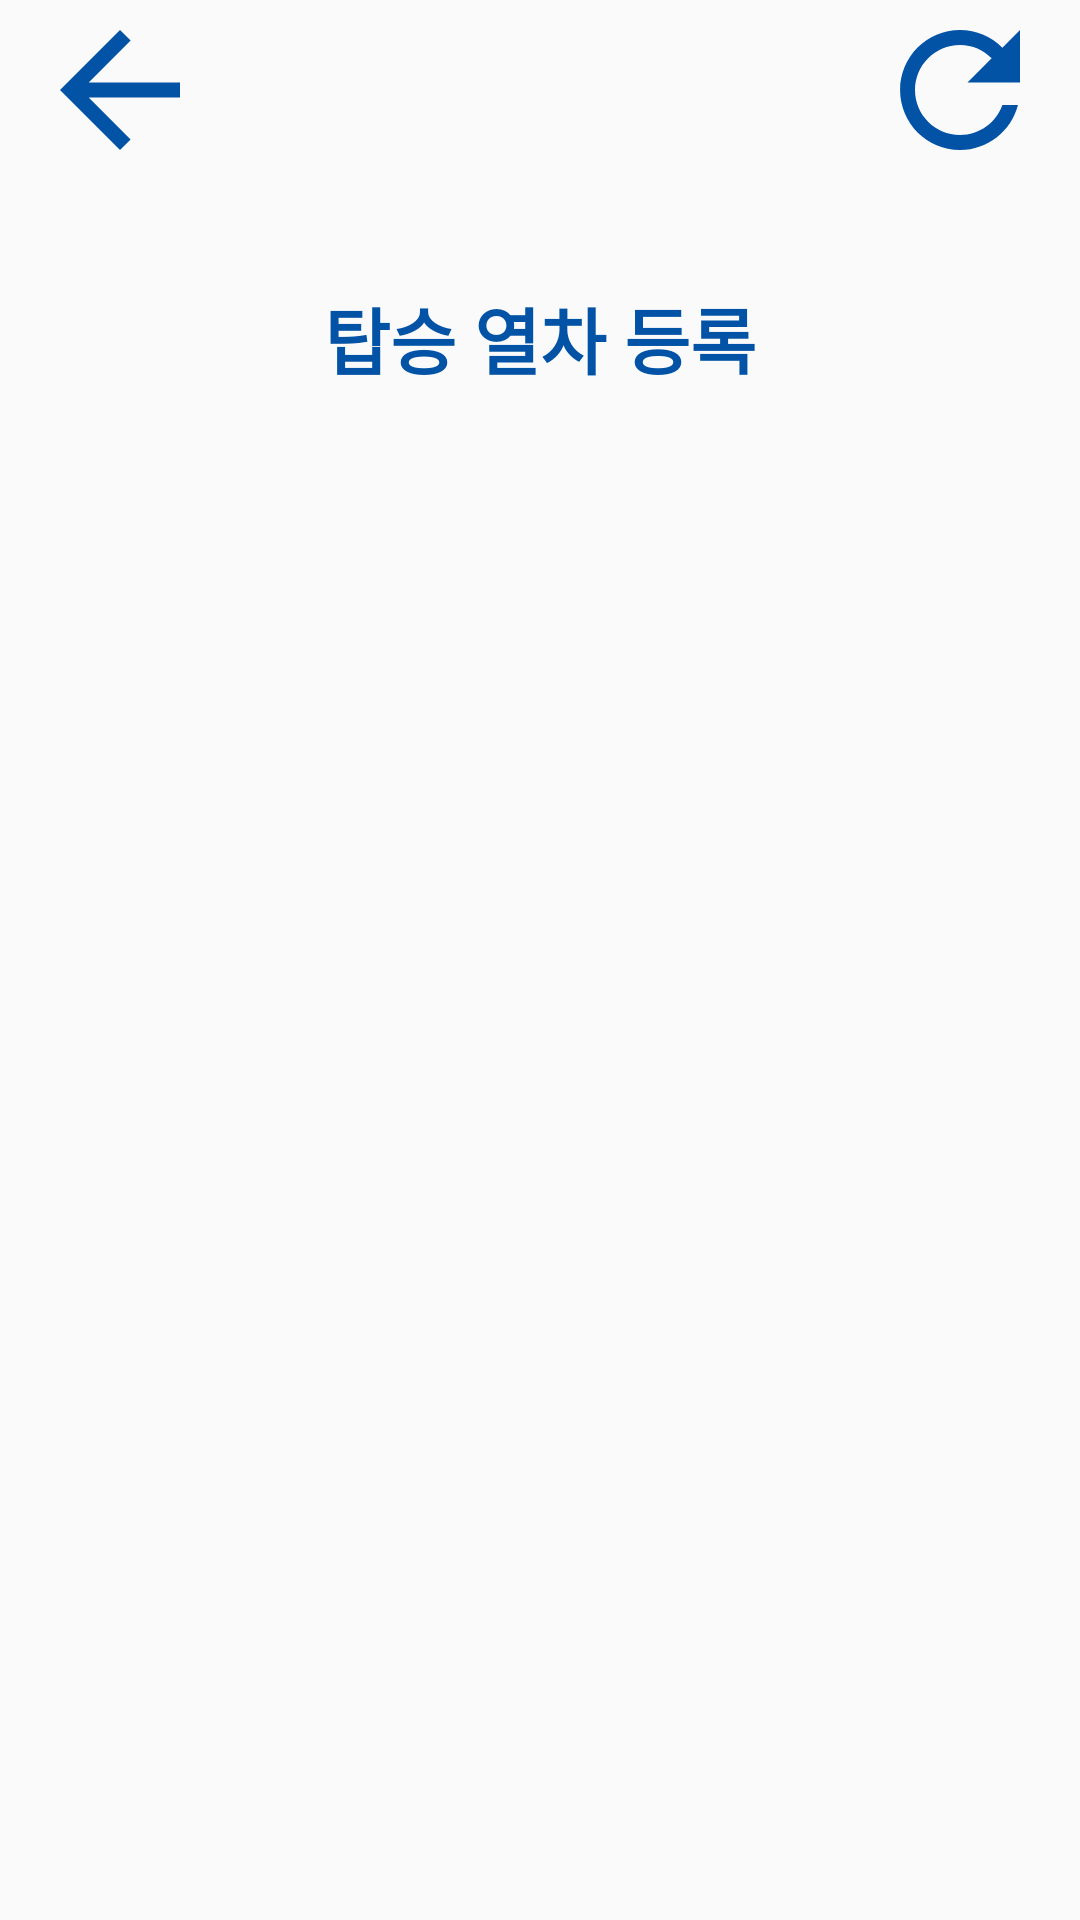

Named icons in this screenshot (1080 × 1920) and their bounding boxes, (x1, y1, x2, y2):
arrow back: (60, 30, 180, 150)
refresh: (900, 30, 1020, 150)
